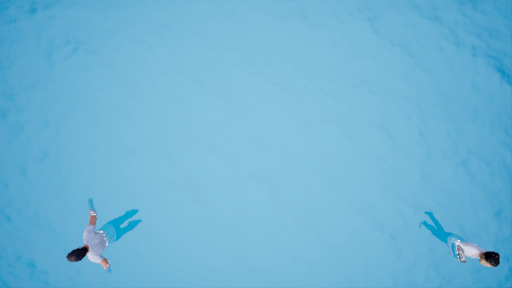person: (58, 190, 151, 277), (409, 212, 507, 270)
